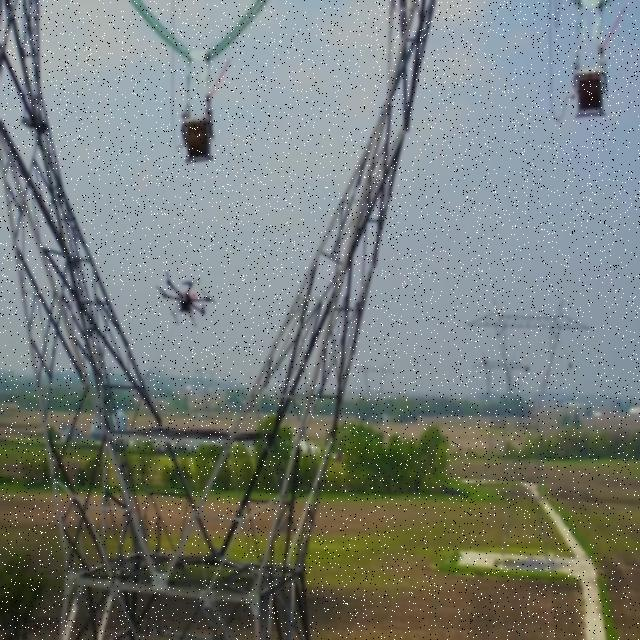UAV: (156, 271, 216, 327)
